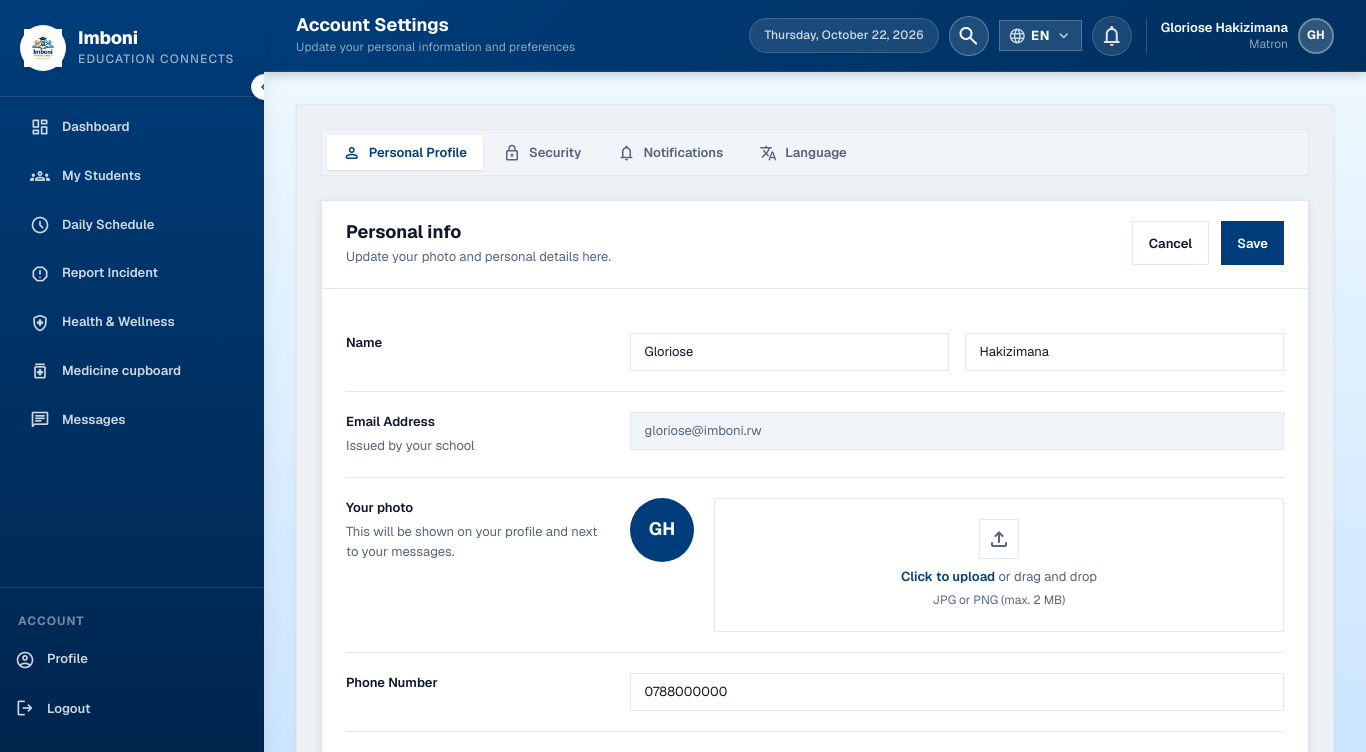
Test: Account › notification channels › reflects the stored channels rather than defaulting everything on
The width and height of the screenshot is (1366, 752).
Expected: the field showing "Gloriose" is shown, x1=630 y1=333 x2=949 y2=371
Click the tab "Notifications" at (670, 153), box x1=601 y1=135 x2=739 y2=170
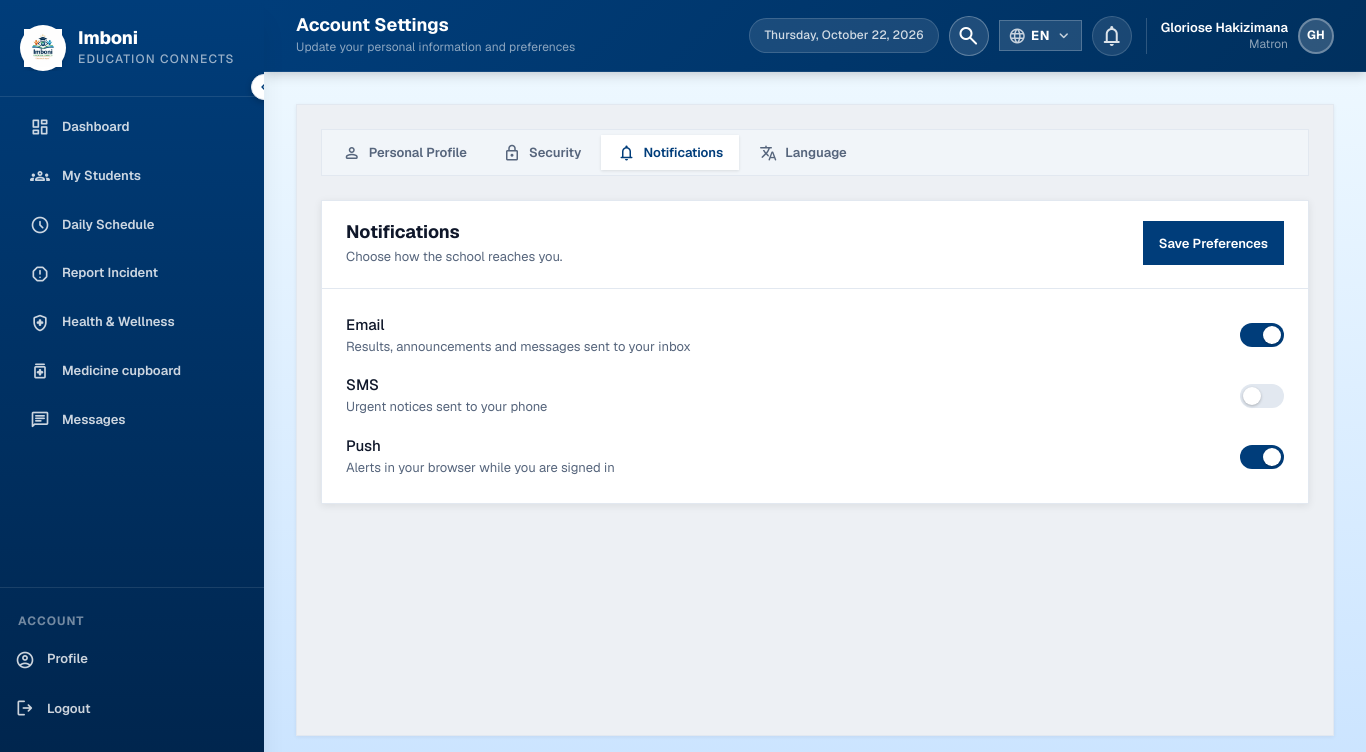
Result: the checkbox labelled "Email" is checked at x1=1240 y1=323 x2=1284 y2=347
Result: the checkbox labelled "SMS" is not checked at x1=1240 y1=384 x2=1284 y2=408
Result: the checkbox labelled "Push" is checked at x1=1240 y1=445 x2=1284 y2=469
